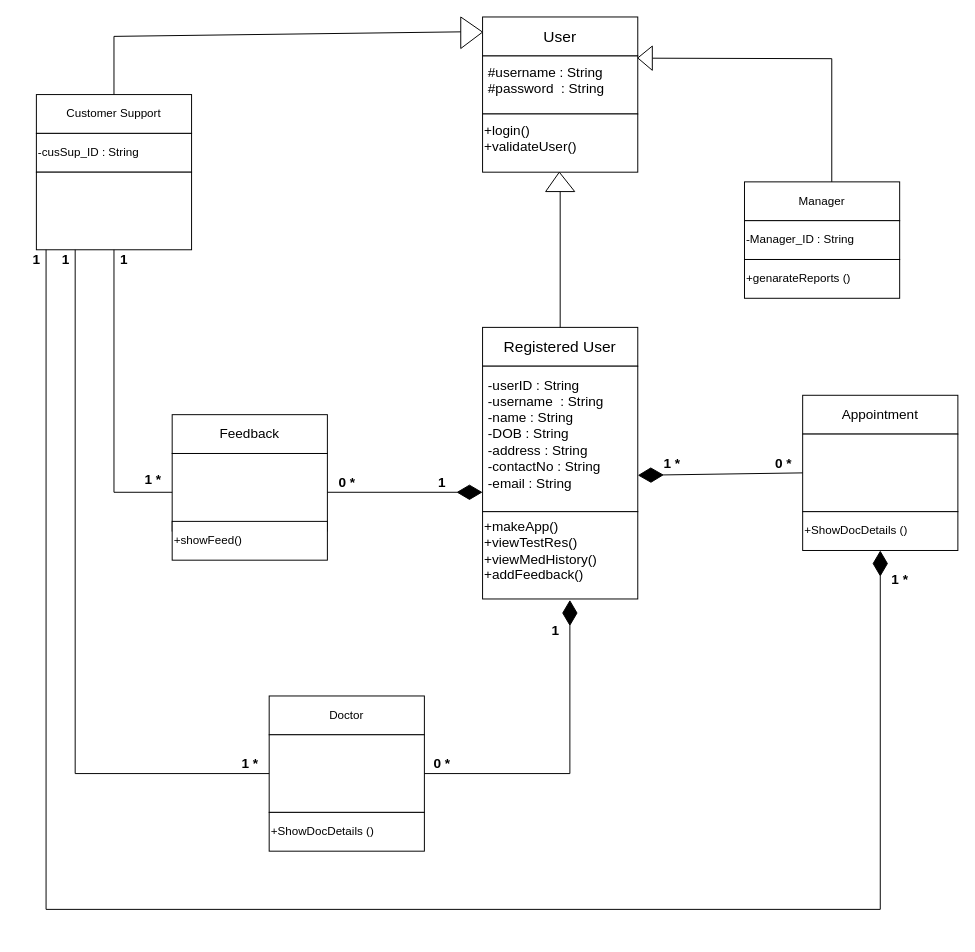
Some shapes in this 975 by 952 pixel diagram are drawn without their labels. Each missing label, with the centre of its shape:
"+ScheduleApp() +manageUser() +manageFeed()" goes at (x=113, y=210).
"-appID : String -appDate : String" goes at (x=880, y=472).
"-Doctor_ID : String -name : string - specialization : string" goes at (x=346, y=773).
"-feedID : String -Username : String - Rate : Integer -Discription : String" goes at (x=249, y=492).
